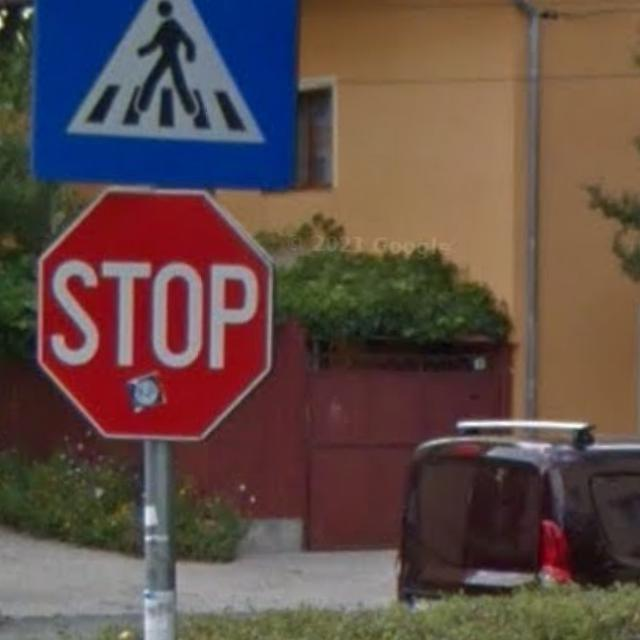info_crosswalk: (37, 3, 297, 190)
prio_stop: (36, 190, 272, 442)
